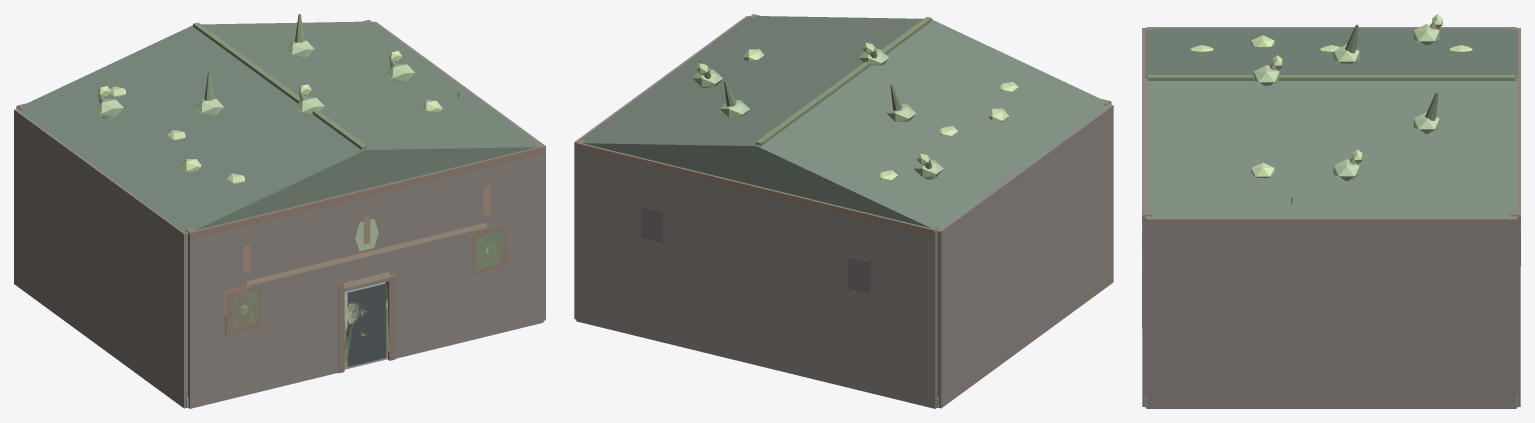
Rendered from last_candle_inn_infested.glb.
The picture shows the model from 3 angles, left to right: view 1: azimuth 30°, elevation 25°; view 2: azimuth 150°, elevation 25°; view 3: azimuth 270°, elevation 25°; orthographic projection. The views are drawn at different scales.
Parts seen in each view (by area): view 1: last_candle_inn_mat_01, last_candle_inn_mat_10, last_candle_inn_mat_02, last_candle_inn_mat_06, last_candle_inn_mat_04, last_candle_inn_mat_08, last_candle_inn_mat_03, last_candle_inn_mat_05, last_candle_inn_mat_07; view 2: last_candle_inn_mat_01, last_candle_inn_mat_10, last_candle_inn_mat_02, last_candle_inn_mat_06, last_candle_inn_mat_08, last_candle_inn_mat_09, last_candle_inn_mat_05; view 3: last_candle_inn_mat_01, last_candle_inn_mat_10, last_candle_inn_mat_06, last_candle_inn_mat_08, last_candle_inn_mat_02, last_candle_inn_mat_05.
Part boxes in pixels (x1=…): last_candle_inn_mat_01: x1=14, y1=21, x2=545, y2=408; last_candle_inn_mat_10: x1=16, y1=21, x2=543, y2=233; last_candle_inn_mat_02: x1=16, y1=20, x2=543, y2=373; last_candle_inn_mat_06: x1=98, y1=14, x2=504, y2=362; last_candle_inn_mat_04: x1=347, y1=283, x2=386, y2=366; last_candle_inn_mat_08: x1=94, y1=40, x2=496, y2=326; last_candle_inn_mat_03: x1=247, y1=222, x2=486, y2=289; last_candle_inn_mat_05: x1=97, y1=51, x2=494, y2=335; last_candle_inn_mat_07: x1=242, y1=186, x2=491, y2=327; last_candle_inn_mat_01: x1=574, y1=16, x2=1113, y2=408; last_candle_inn_mat_10: x1=576, y1=16, x2=1111, y2=231; last_candle_inn_mat_02: x1=576, y1=14, x2=1111, y2=390; last_candle_inn_mat_06: x1=699, y1=17, x2=935, y2=179; last_candle_inn_mat_08: x1=692, y1=49, x2=943, y2=177; last_candle_inn_mat_09: x1=641, y1=207, x2=870, y2=293; last_candle_inn_mat_05: x1=695, y1=42, x2=1018, y2=180; last_candle_inn_mat_01: x1=1142, y1=27, x2=1520, y2=408; last_candle_inn_mat_10: x1=1145, y1=28, x2=1517, y2=217; last_candle_inn_mat_06: x1=1148, y1=23, x2=1514, y2=204; last_candle_inn_mat_08: x1=1253, y1=24, x2=1439, y2=181; last_candle_inn_mat_02: x1=1142, y1=28, x2=1520, y2=328; last_candle_inn_mat_05: x1=1190, y1=14, x2=1472, y2=177.
Size of the model in its own units: 5.97 by 3.73 by 4.98.
